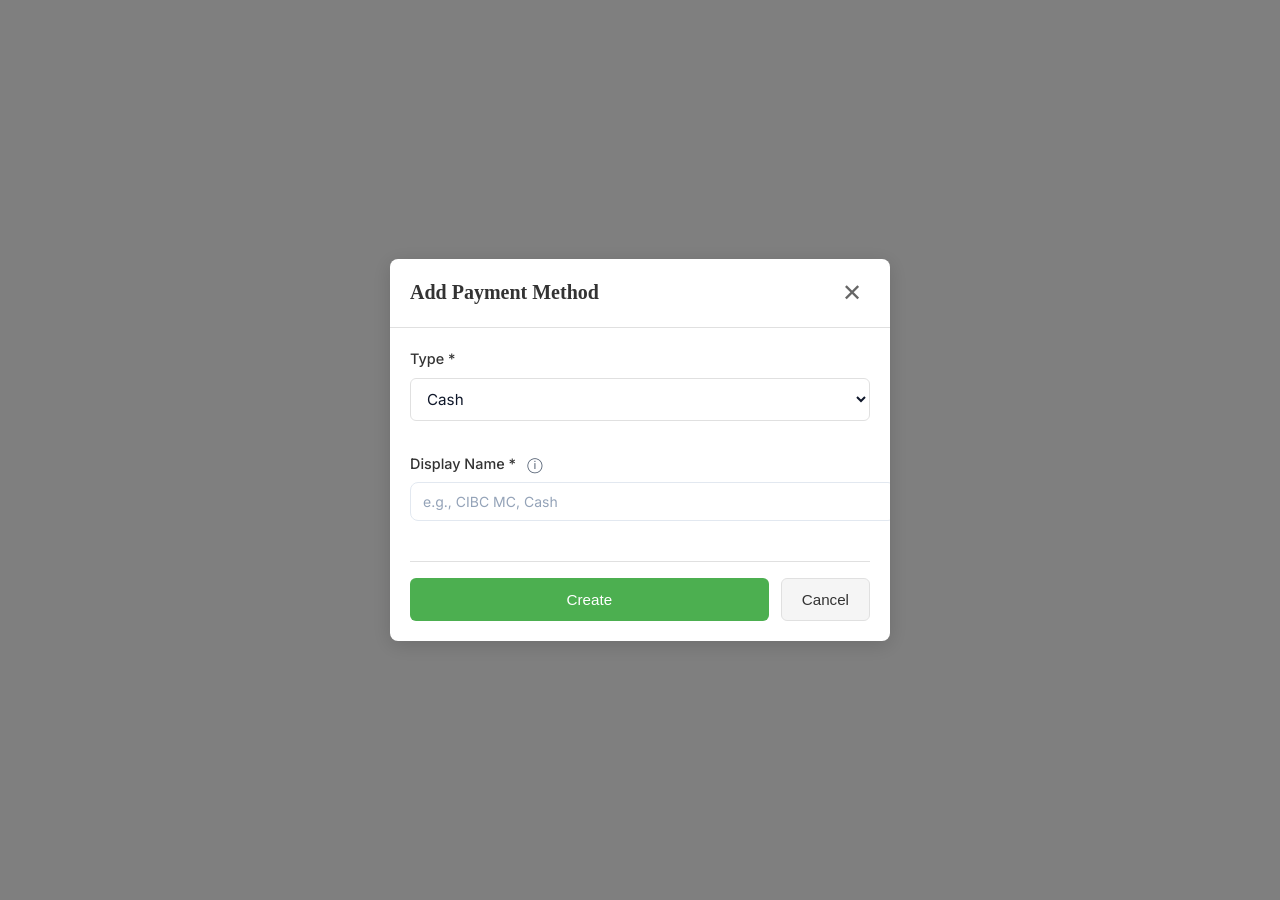
Test: PaymentMethodForm - Billing Cycle Day Field › should mark billing_cycle_day as required for credit cards
Note: Change to credit card type
Select "Credit Card" in the dropdown labelled "Type *" at (640, 399), box [410,378,870,420]
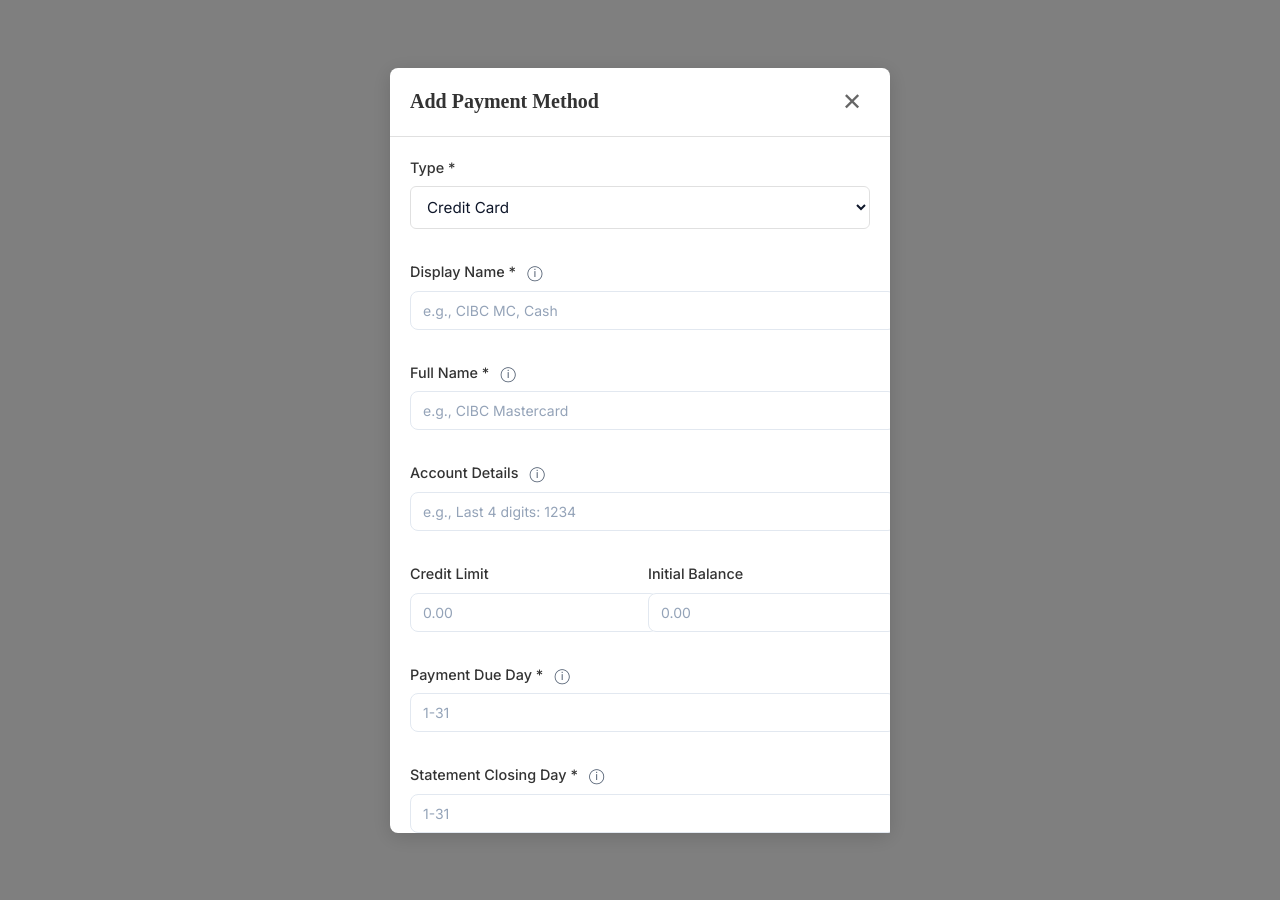
Now the number field labelled "Statement Closing Day * ⓘ" is shown, box [410,794,890,832]
Now the text "Statement Closing Day * ⓘ" is shown, box [410,765,604,784]
